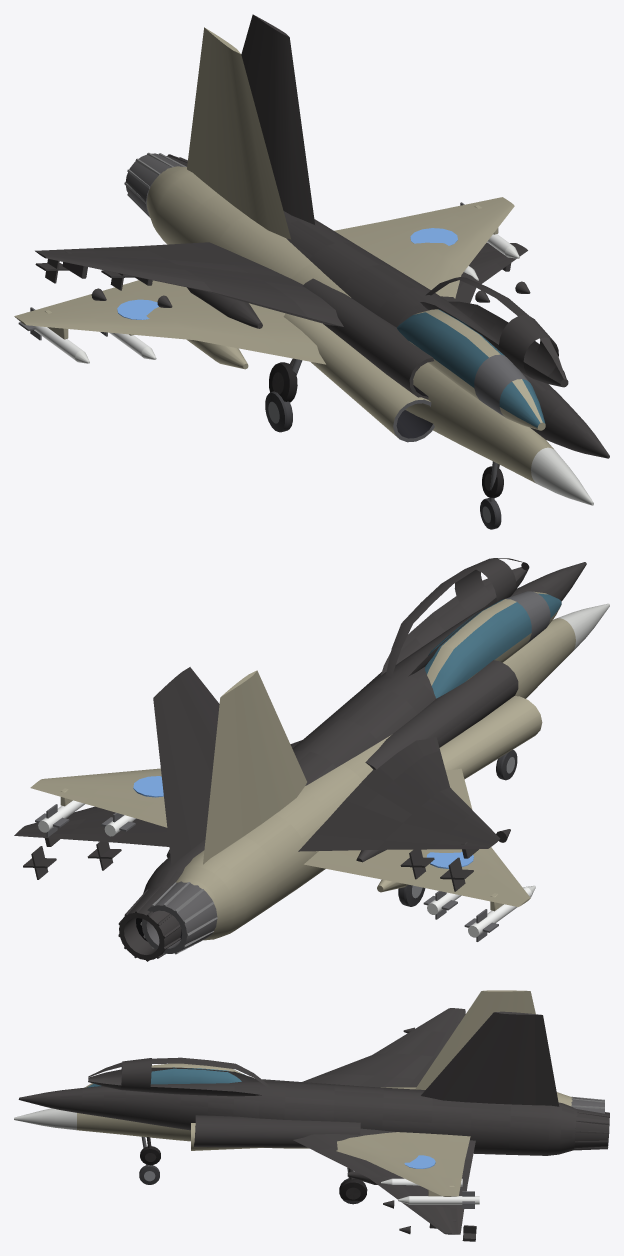
The model's file is attackJet__mirage_2000d.glb.
3 renders of one model, top to bottom at view 1: azimuth 30°, elevation 25°; view 2: azimuth 150°, elevation 25°; view 3: azimuth 270°, elevation 25°, orthographic. The views are drawn at different scales.
Parts seen in each view (by area): view 1: Fuselage_Mesh, Wreck; view 2: Fuselage_Mesh, Wreck; view 3: Wreck, Fuselage_Mesh.
Part boxes in pixels (bbox=[...]): Fuselage_Mesh: bbox=[14, 27, 593, 529]; Wreck: bbox=[35, 14, 609, 497]; Fuselage_Mesh: bbox=[30, 591, 609, 954]; Wreck: bbox=[14, 558, 586, 961]; Wreck: bbox=[18, 1008, 609, 1241]; Fuselage_Mesh: bbox=[14, 990, 604, 1208].
Size of what is drawn, in the model's own units: 9.41 by 5.2 by 14.51.
